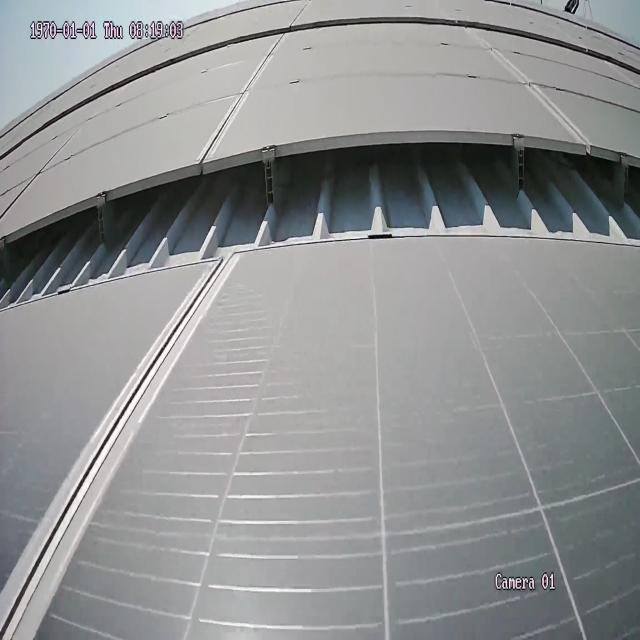interior panel: (1, 267, 231, 634), (469, 38, 587, 131), (200, 41, 288, 146)
outher panel: (3, 140, 636, 310)
